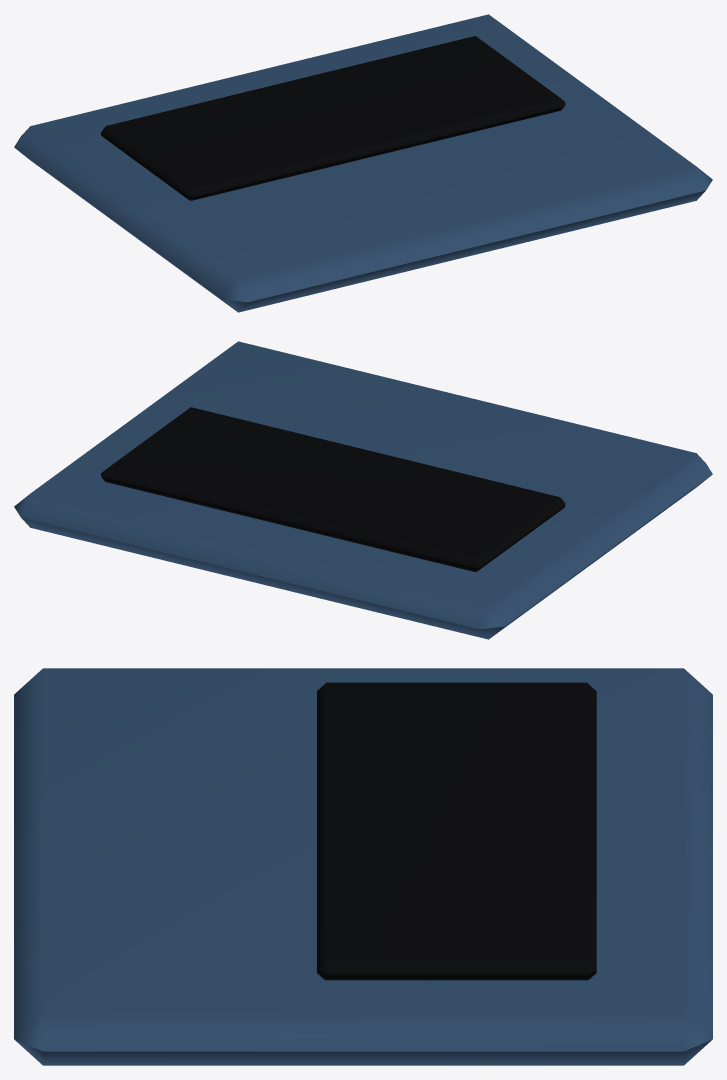
File: debris-car-door.glb
The picture shows the model from 3 angles, top to bottom: view 1: azimuth 30°, elevation 25°; view 2: azimuth 150°, elevation 25°; view 3: azimuth 270°, elevation 25°; orthographic projection. The views are drawn at different scales.
Parts seen in each view (by area): view 1: debris-car-door; view 2: debris-car-door; view 3: debris-car-door.
Part boxes in pixels (x1,y1,x2,y2): debris-car-door: (14,14,712,312); debris-car-door: (14,341,712,639); debris-car-door: (14,668,712,1065).
Bounding box in the file's own units: 0.75 × 0.068 × 0.6.
1 material, 1 textured.
